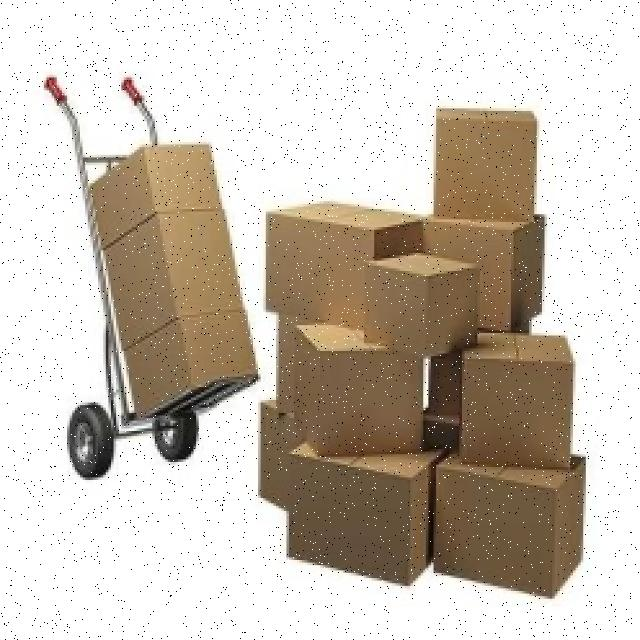box: (446, 444, 586, 602), (266, 200, 408, 338), (92, 215, 255, 332), (294, 449, 442, 572), (293, 334, 437, 456), (468, 330, 574, 464), (442, 88, 544, 222), (418, 208, 542, 316), (102, 322, 264, 398), (82, 141, 235, 215), (368, 257, 468, 356), (259, 398, 300, 494)
